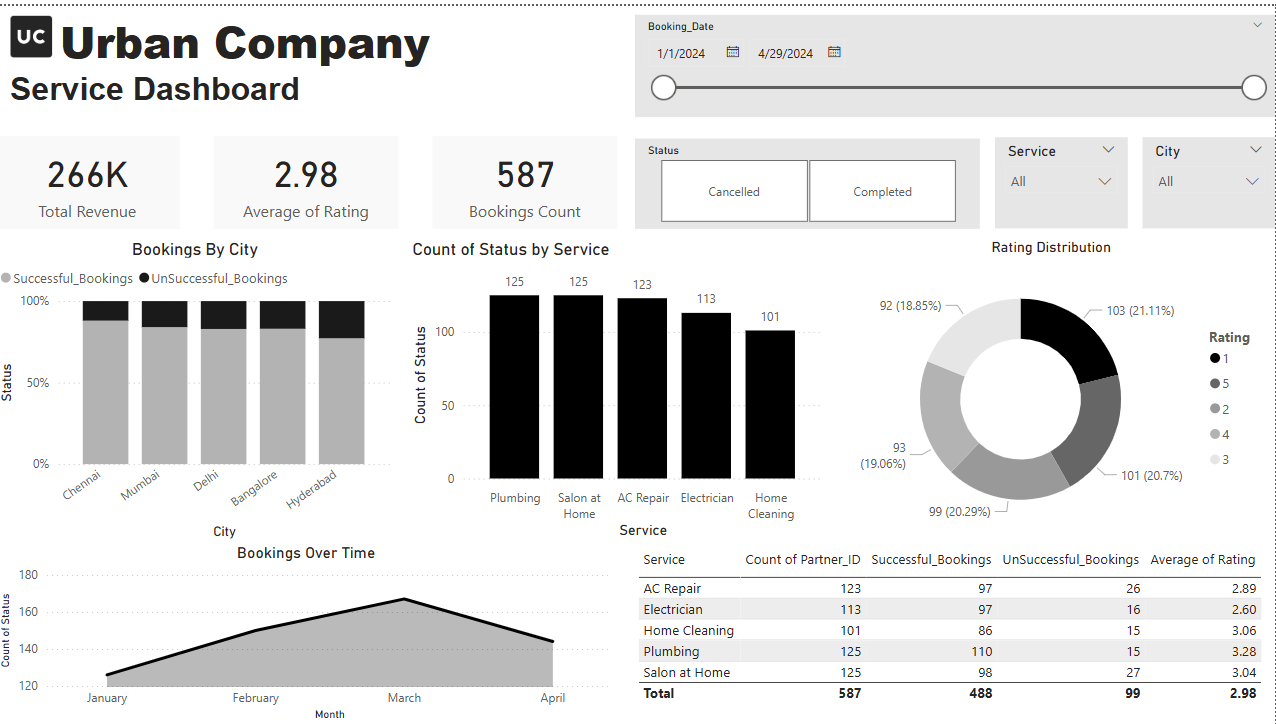

This screenshot's page, from the dashboard's own definition file:
{"tool":"powerbi","page":{"name":"Page 1","canvas":[1280,720],"ordinal":0},"visuals":[{"type":"card","fields":{"Values":["CountNonNull(Sheet1.Booking_ID)"]},"box":[437.5,130,185,92.5],"z":0},{"type":"card","fields":{"Values":["Avg(Sheet1.Rating)"]},"box":[218.8,130,185,92.5],"z":1000},{"type":"card","fields":{"Values":["UC_Bookings.Total Revenue"]},"box":[0,130,185,92.5],"z":4000},{"type":"clusteredColumnChart","fields":{"Category":["UC_Bookings.Service"],"Y":["CountNonNull(UC_Bookings.Status)"]},"box":[412.5,232.5,420,305],"z":5000},{"type":"hundredPercentStackedColumnChart","title":"Bookings By City","fields":{"Category":["UC_Bookings.City"],"Y":["UC_Bookings.Successful_Bookings","UC_Bookings.UnSuccessful_Bookings"]},"box":[0,232.5,400,305],"z":6000},{"type":"lineChart","title":"Bookings Over Time","fields":{"Category":["UC_Bookings.Booking_Date.Variation.Date Hierarchy.Month"],"Y":["CountNonNull(UC_Bookings.Status)"]},"box":[0,537.5,622.5,182.5],"z":7000},{"type":"tableEx","fields":{"Values":["UC_Bookings.Service","CountNonNull(UC_Bookings.Partner_ID)","UC_Bookings.Successful_Bookings","UC_Bookings.UnSuccessful_Bookings","Avg(UC_Bookings.Rating)"]},"box":[637.5,537.5,642.5,182.5],"z":8000},{"type":"slicer","fields":{"Values":["UC_Bookings.City"]},"box":[1147.5,131.5,132.5,91.2],"z":9000},{"type":"slicer","fields":{"Values":["UC_Bookings.Service"]},"box":[1000,131.5,132.5,91.2],"z":10000},{"type":"slicer","fields":{"Values":["UC_Bookings.Status"]},"box":[640,132.7,345,90],"z":11000},{"type":"slicer","fields":{"Values":["UC_Bookings.Booking_Date"]},"box":[640,8.8,640,102.5],"z":12000},{"type":"donutChart","title":"Rating Distribution","fields":{"Category":["UC_Bookings.Rating"],"Y":["CountNonNull(UC_Bookings.Booking_ID)"]},"box":[832.5,232.5,447.5,305],"z":13000},{"type":"textbox","box":[10,0,578.8,111.2],"z":14000},{"type":"image","box":[7.5,5,57.5,51.2],"z":15000}]}

Visuals, with their boxes in screenshot pixels (x1, y1, x2, y2), scaled from the page's 1280x720 canvas onto the 1276x724 screenshot:
card - CountNonNull(Sheet1.Booking_ID): rect(436, 131, 621, 224)
card - Avg(Sheet1.Rating): rect(218, 131, 403, 224)
card - UC_Bookings.Total Revenue: rect(0, 131, 184, 224)
clusteredColumnChart - UC_Bookings.Service x CountNonNull(UC_Bookings.Status): rect(411, 234, 830, 540)
"Bookings By City" hundredPercentStackedColumnChart: rect(0, 234, 399, 540)
"Bookings Over Time" lineChart: rect(0, 540, 621, 723)
tableEx - UC_Bookings.Service x CountNonNull(UC_Bookings.Partner_ID): rect(636, 540, 1275, 723)
slicer - UC_Bookings.City: rect(1144, 132, 1275, 224)
slicer - UC_Bookings.Service: rect(997, 132, 1129, 224)
slicer - UC_Bookings.Status: rect(638, 133, 982, 224)
slicer - UC_Bookings.Booking_Date: rect(638, 9, 1275, 112)
"Rating Distribution" donutChart: rect(830, 234, 1275, 540)
textbox: rect(10, 0, 587, 112)
image: rect(7, 5, 65, 57)
